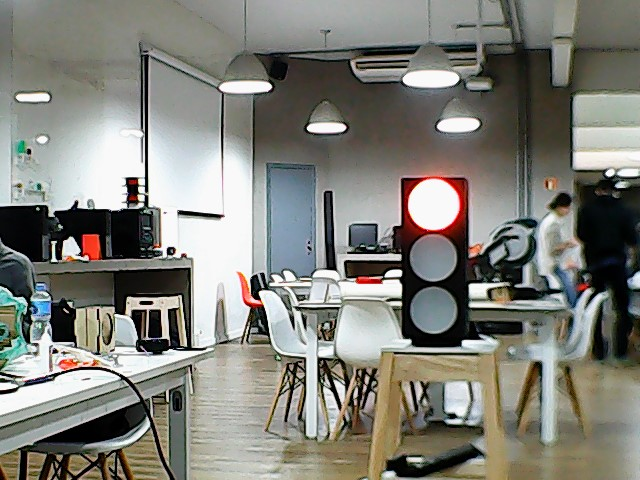vermelho: (398, 174, 472, 351)
